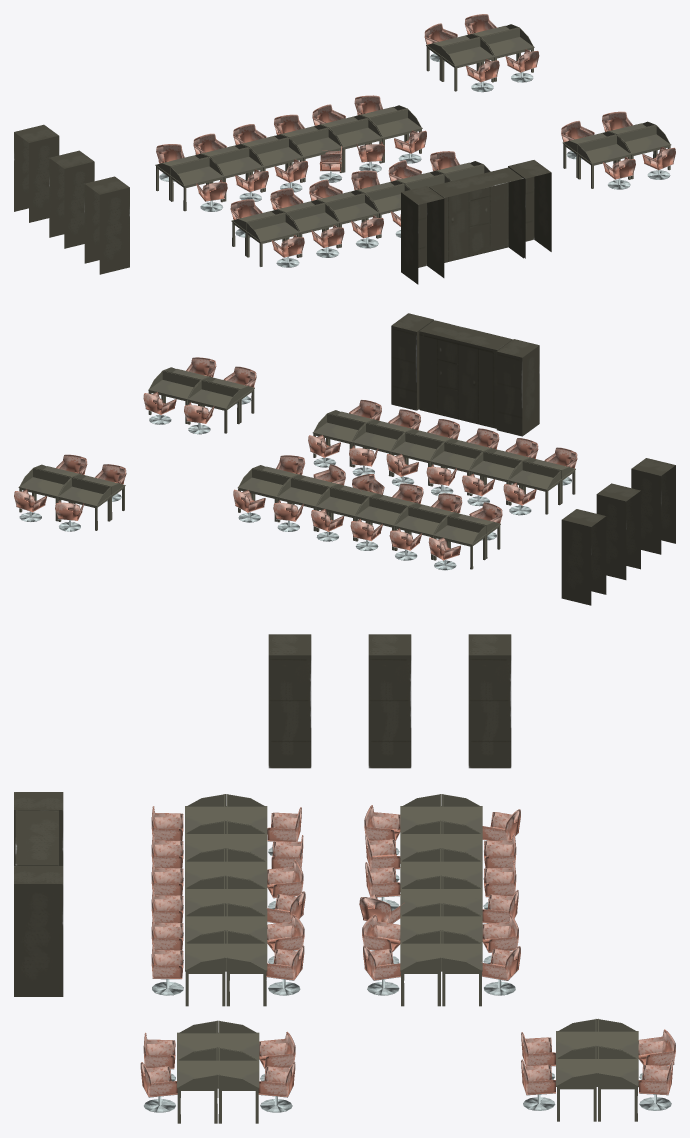
The model's file is office 1.FBX.
3 renders of one model, top to bottom at view 1: azimuth 30°, elevation 25°; view 2: azimuth 150°, elevation 25°; view 3: azimuth 270°, elevation 25°, orthographic. The views are drawn at different scales.
Parts seen in each view (by area): view 1: Object100; view 2: Object100; view 3: Object100.
Boxes of the visible parts, <box> form: Object100: <box>14,14,675,284</box>; Object100: <box>14,313,675,605</box>; Object100: <box>14,634,675,1123</box>.
Bounding box in the file's own units: 1691 × 249 × 1272.
Materials: 1 (1 with a texture image).
